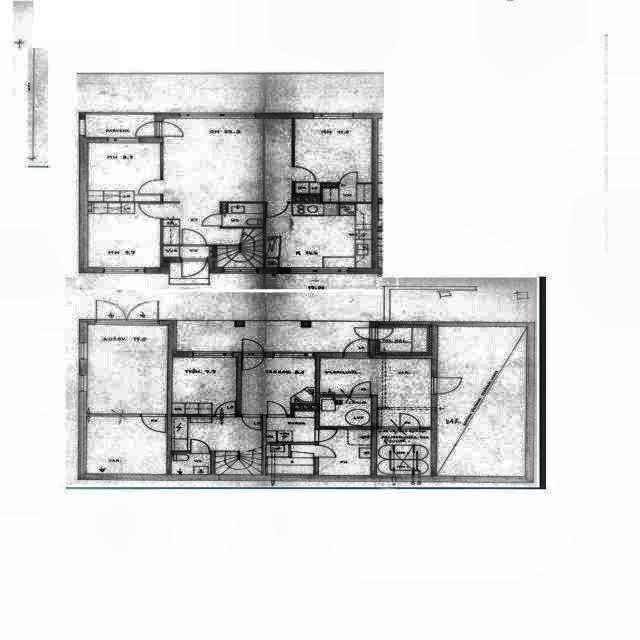room: (437, 326, 526, 476), (319, 358, 432, 427), (87, 325, 168, 414), (266, 203, 371, 268), (172, 417, 262, 475), (295, 119, 372, 183), (88, 203, 160, 267), (86, 417, 166, 474), (241, 357, 315, 415), (89, 143, 161, 201), (172, 357, 237, 415), (376, 429, 431, 476), (319, 429, 371, 475), (85, 114, 155, 137), (319, 397, 371, 426), (266, 445, 314, 476), (266, 412, 315, 442), (322, 184, 372, 202), (171, 453, 211, 474), (163, 246, 213, 257)
